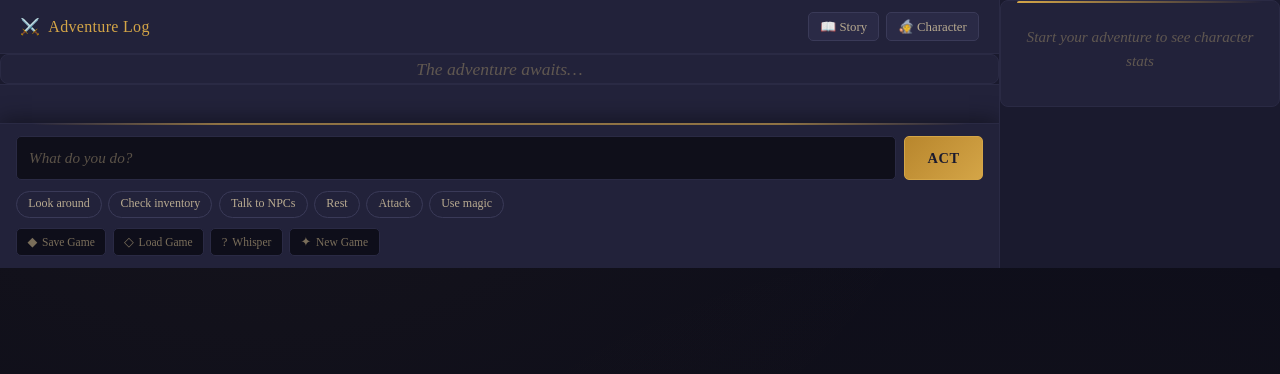
Test: game flow — error recovery › shows error banner when server returns an error event
Submit a turn — the SSE stream will return an error event
In the field with placeholder "What do you do?": {"x": 456, "y": 158} [16,136,896,180], type "Enter the darkness"
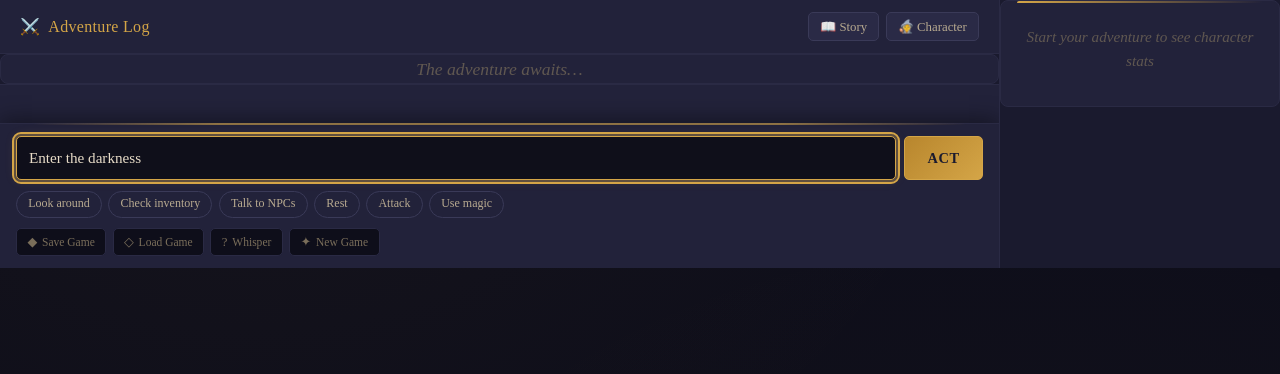
Click the button with aria-label "submit action": {"x": 944, "y": 158} [904,136,983,180]
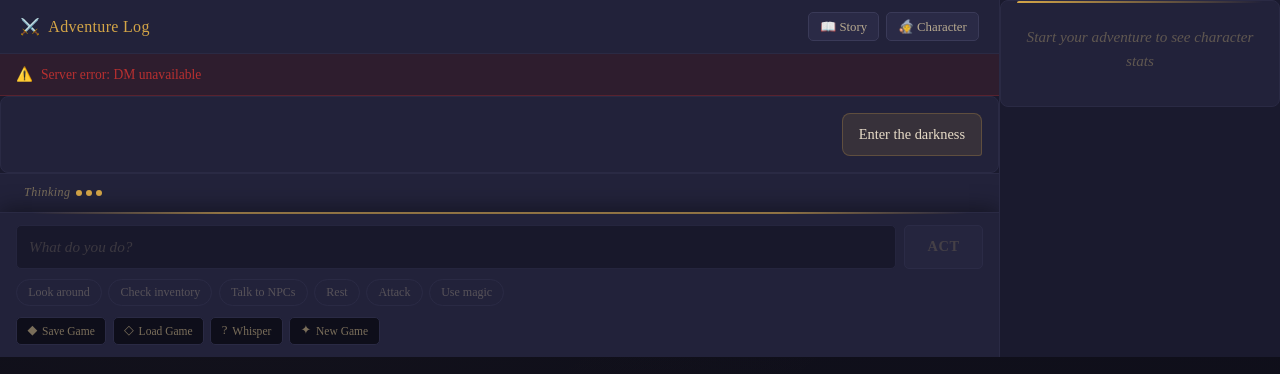
Result: the text "⚠️ Server error: DM unavailable" is shown at [0,54,999,96]
